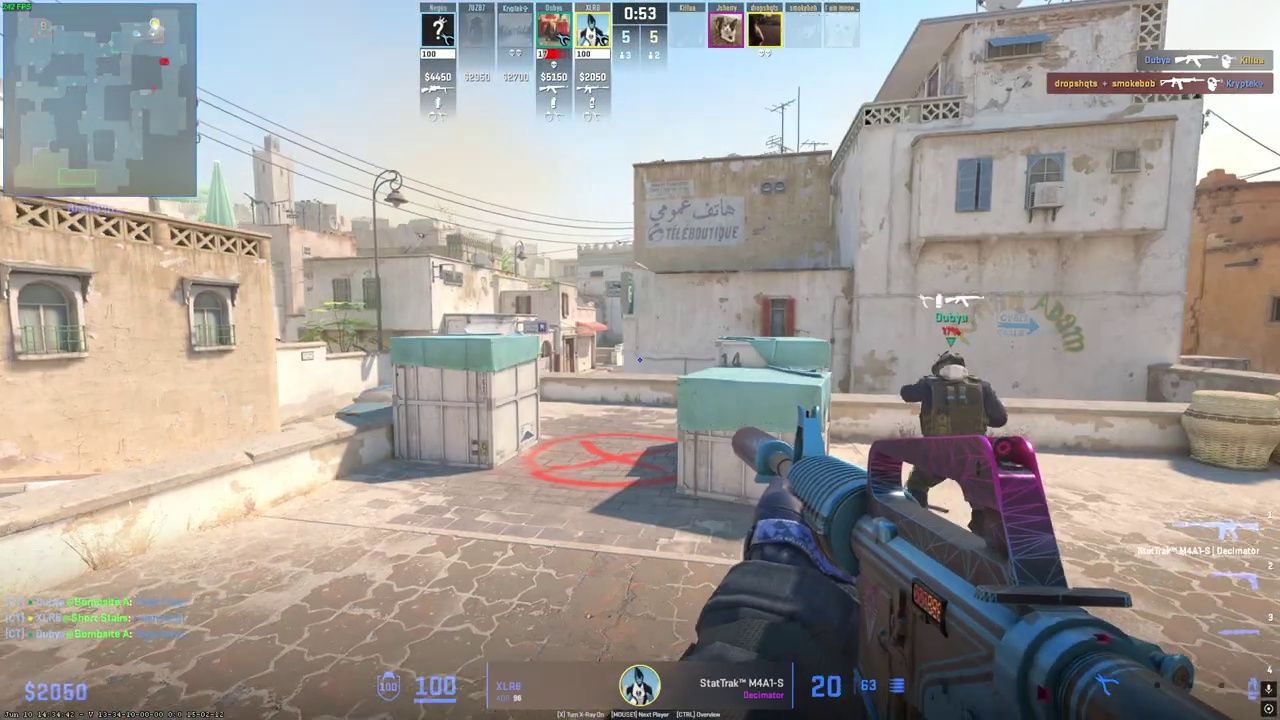CT: (903, 350, 1007, 510)
